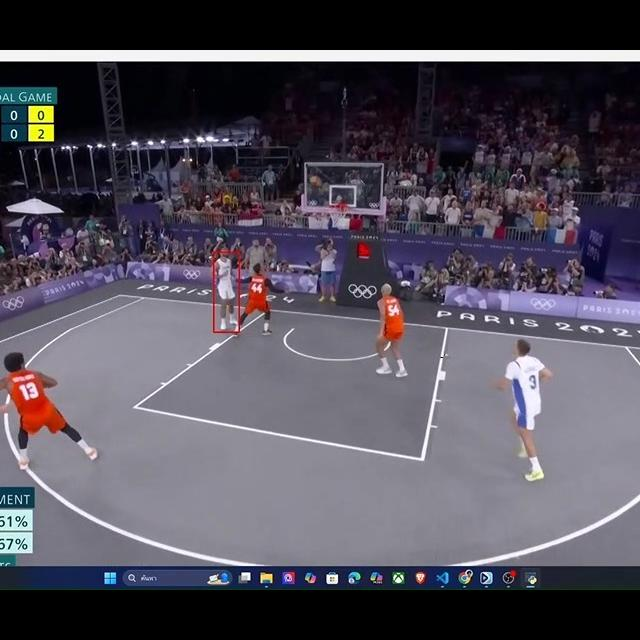basketball: (308, 174, 323, 189)
hoop: (323, 202, 351, 228)
